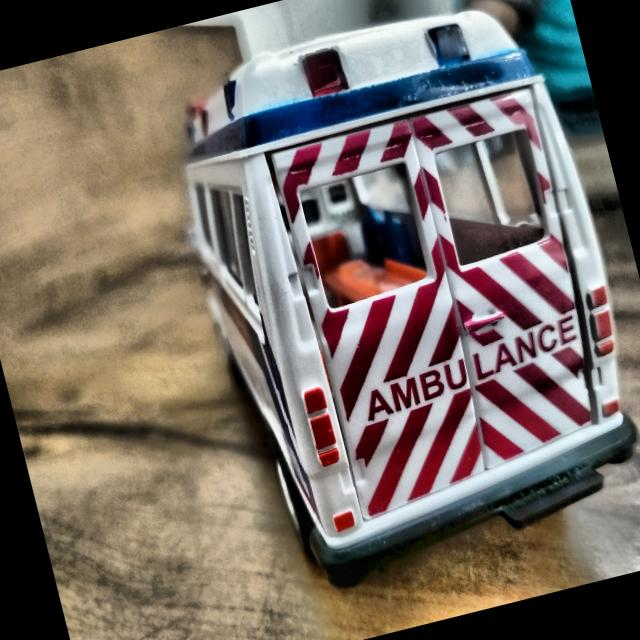Ambulance: (99, 0, 640, 620)
